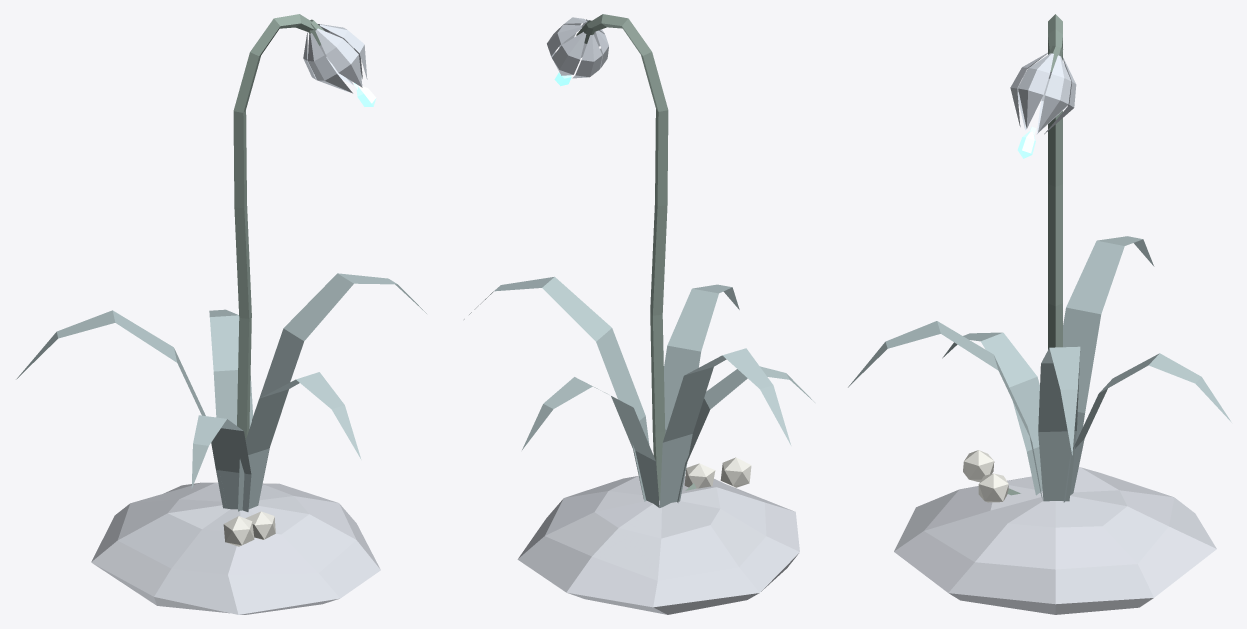
The model's file is plant_t2_e.fbx.
3 views of the same model, side by side, from view 1: azimuth 30°, elevation 25°; view 2: azimuth 150°, elevation 25°; view 3: azimuth 270°, elevation 25° (orthographic). The views are drawn at different scales.
Visible parts, largest first — view 1: plant_t2_e; view 2: plant_t2_e; view 3: plant_t2_e.
Part boxes in pixels (x1,y1,x2,y2): plant_t2_e: (16,14,426,614); plant_t2_e: (464,14,814,614); plant_t2_e: (848,14,1231,614).
Size of the model in its own units: 29.4 by 40.38 by 25.04.
